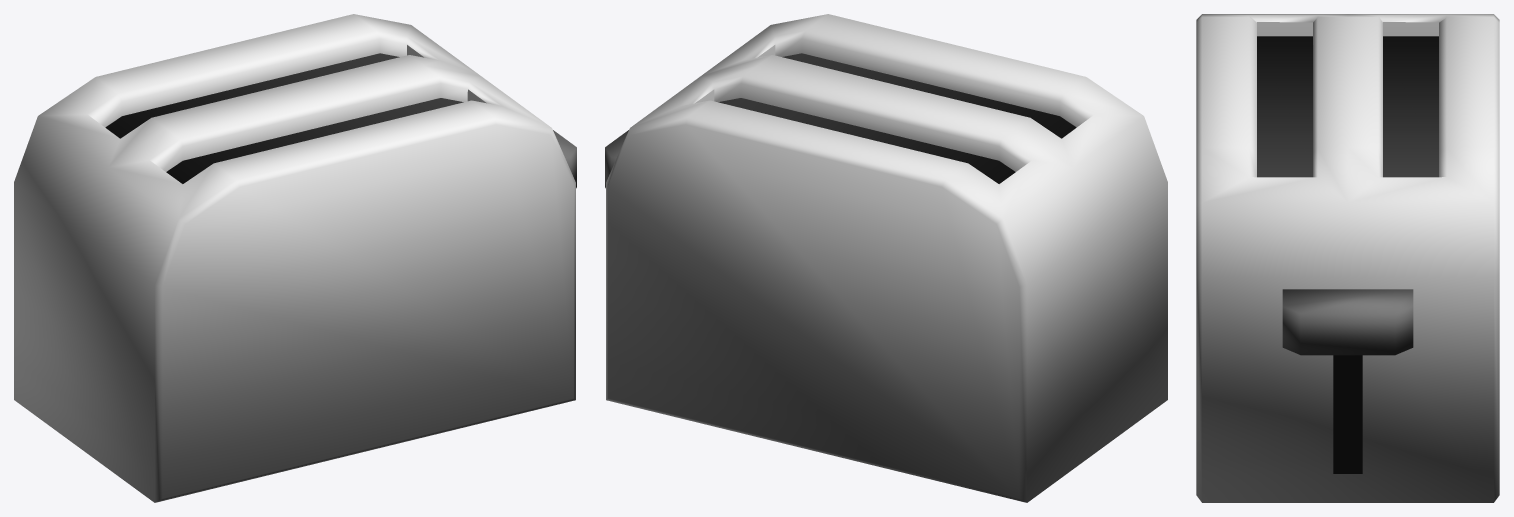
Rendered from Toaster.fbx.
3 views of the same model, side by side, from view 1: azimuth 30°, elevation 25°; view 2: azimuth 150°, elevation 25°; view 3: azimuth 270°, elevation 25° (orthographic). The views are drawn at different scales.
Visible parts, largest first — view 1: Toaster; view 2: Toaster; view 3: Toaster.
Boxes of the visible parts, x1,y1,x2,y2 form: Toaster: (14, 14, 576, 502); Toaster: (605, 14, 1167, 502); Toaster: (1196, 14, 1499, 502).
Bounding box in the file's own units: 64.82 × 39.98 × 35.03.
1 material, 1 textured.
